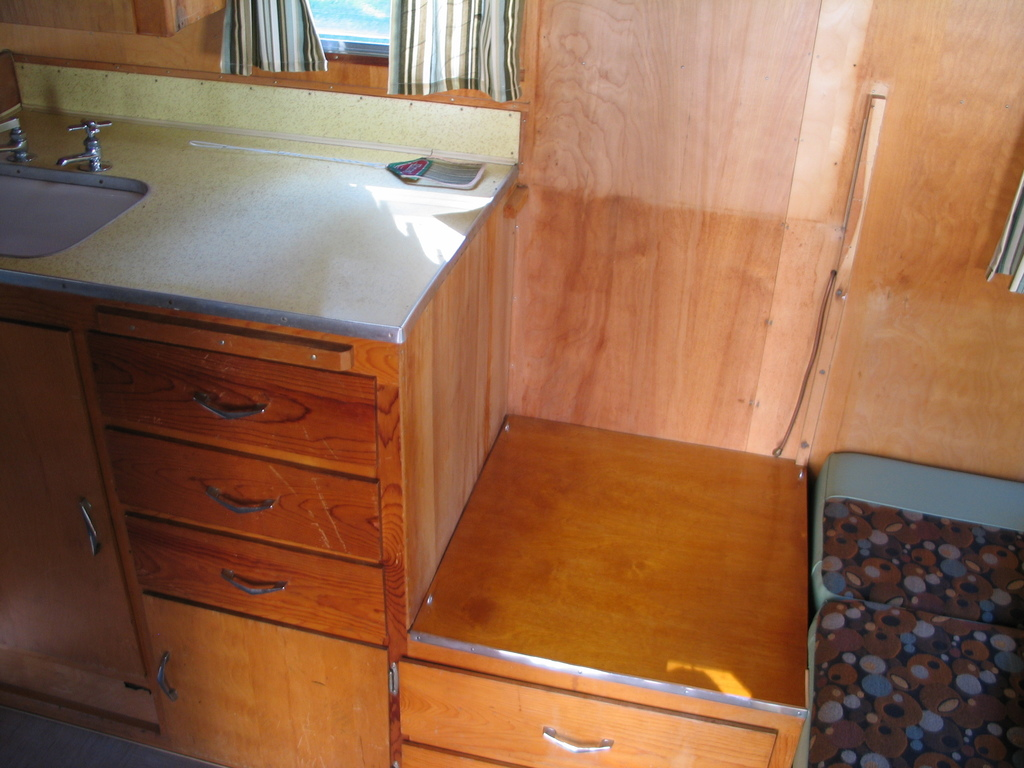cabinet door: (132, 586, 386, 768), (398, 662, 778, 768), (1, 322, 110, 670), (106, 331, 386, 461), (114, 437, 397, 549), (129, 525, 394, 641)
handle: (198, 477, 282, 524), (225, 563, 296, 608), (191, 395, 281, 430), (534, 726, 617, 762), (72, 499, 104, 567), (154, 642, 178, 708)
